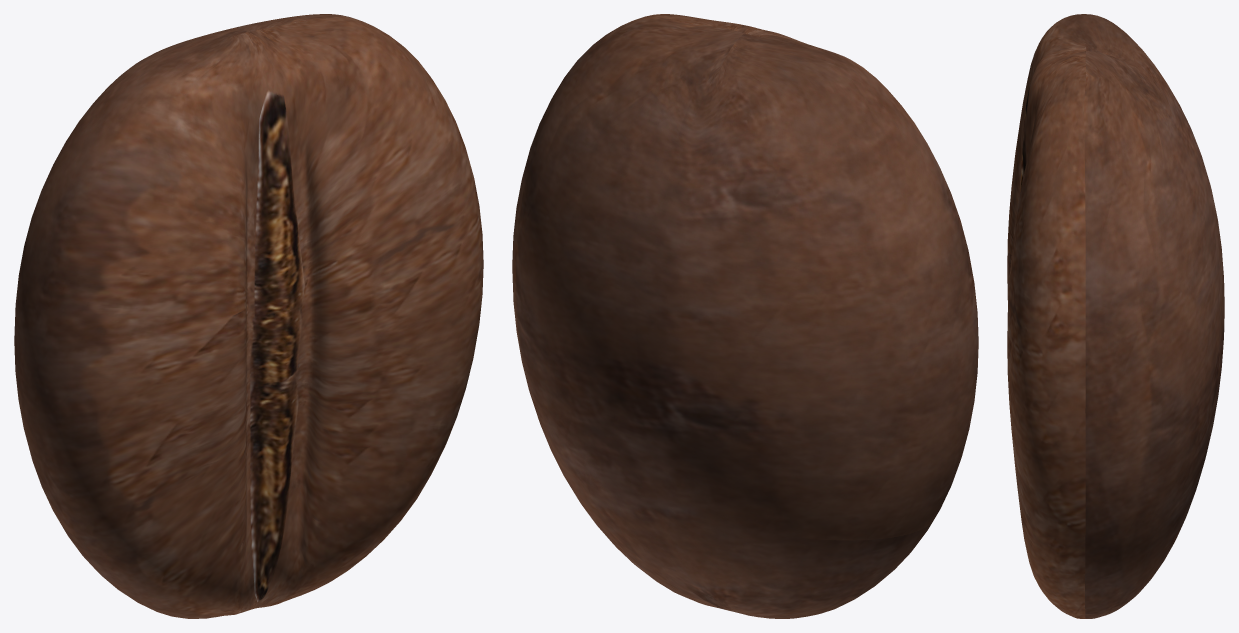
File: coffee_beans_3d_model.glb
3 views of the same model, side by side, from view 1: azimuth 30°, elevation 25°; view 2: azimuth 150°, elevation 25°; view 3: azimuth 270°, elevation 25° (orthographic). The views are drawn at different scales.
Visible parts, largest first — view 1: 10177_CoffeeBean_v01_it2_0; view 2: 10177_CoffeeBean_v01_it2_0; view 3: 10177_CoffeeBean_v01_it2_0.
Part boxes in pixels (left/top/right/bottom): 10177_CoffeeBean_v01_it2_0: left=14, top=14, right=483, bottom=618; 10177_CoffeeBean_v01_it2_0: left=512, top=14, right=978, bottom=618; 10177_CoffeeBean_v01_it2_0: left=1007, top=14, right=1224, bottom=618.
Bounding box in the file's own units: 4.6 × 5.69 × 2.05.
Materials: 1 (1 with a texture image).
